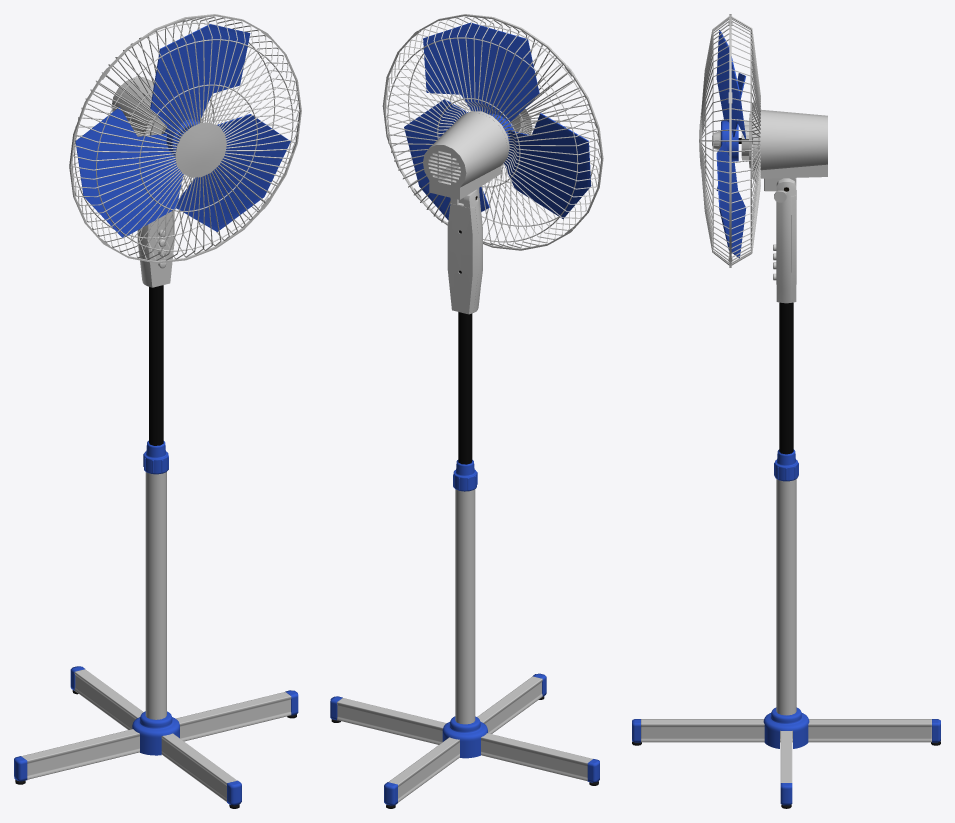
The model's file is Floor_Standing_Fan.FBX.
The picture shows the model from 3 angles, left to right: view 1: azimuth 30°, elevation 25°; view 2: azimuth 150°, elevation 25°; view 3: azimuth 270°, elevation 25°; orthographic projection. The views are drawn at different scales.
Visible parts, largest first — view 1: FloorStandingFan01, FloorStandingFan01_Mesh_cover_front, FloorStandingFan01_Housing, FloorStandingFan01_Housing_motor, FloorStandingFan01_Stand_1_cover, FloorStandingFan01_Stand_2_cover; view 2: FloorStandingFan01, FloorStandingFan01_Housing_motor, FloorStandingFan01_Housing, FloorStandingFan01_Stand_1_cover, FloorStandingFan01_Stand_2_cover; view 3: FloorStandingFan01, FloorStandingFan01_Housing_motor, FloorStandingFan01_Housing, FloorStandingFan01_Stand_1_cover, FloorStandingFan01_Stand_2_cover.
Part boxes in pixels (box(x1,y1,x2,y2)): FloorStandingFan01: box(14, 14, 301, 808); FloorStandingFan01_Mesh_cover_front: box(175, 122, 226, 177); FloorStandingFan01_Housing: box(137, 210, 174, 287); FloorStandingFan01_Housing_motor: box(111, 77, 202, 136); FloorStandingFan01_Stand_1_cover: box(132, 711, 179, 755); FloorStandingFan01_Stand_2_cover: box(143, 440, 168, 474); FloorStandingFan01: box(330, 14, 603, 808); FloorStandingFan01_Housing_motor: box(423, 111, 509, 199); FloorStandingFan01_Housing: box(447, 189, 482, 314); FloorStandingFan01_Stand_1_cover: box(442, 716, 487, 758); FloorStandingFan01_Stand_2_cover: box(453, 460, 477, 491); FloorStandingFan01: box(632, 14, 940, 808); FloorStandingFan01_Housing_motor: box(752, 109, 827, 178); FloorStandingFan01_Housing: box(776, 178, 796, 303); FloorStandingFan01_Stand_1_cover: box(763, 707, 809, 748); FloorStandingFan01_Stand_2_cover: box(774, 449, 798, 481).
Bounding box in the file's own units: 53.1 × 136 × 53.1.
